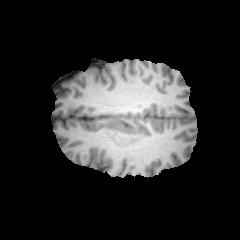glioma: (103, 118, 168, 146)
